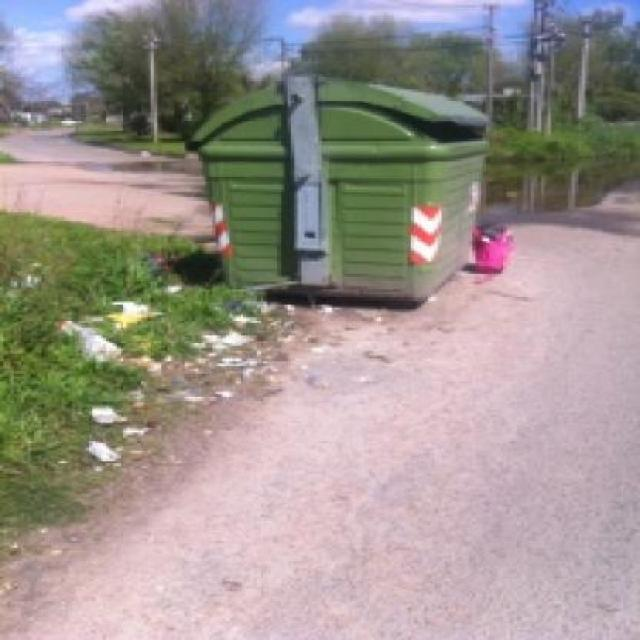garbage: (45, 282, 179, 379), (83, 394, 142, 466)
